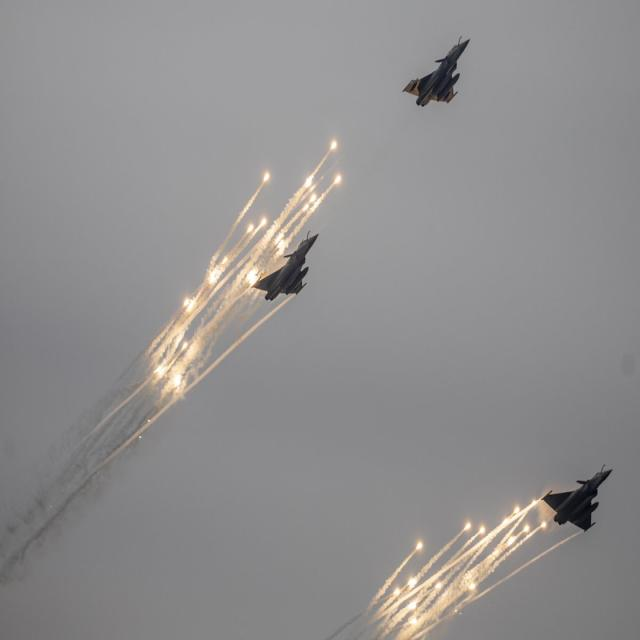MIL_Plane: (401, 35, 471, 107), (250, 230, 320, 301), (541, 464, 613, 533)
